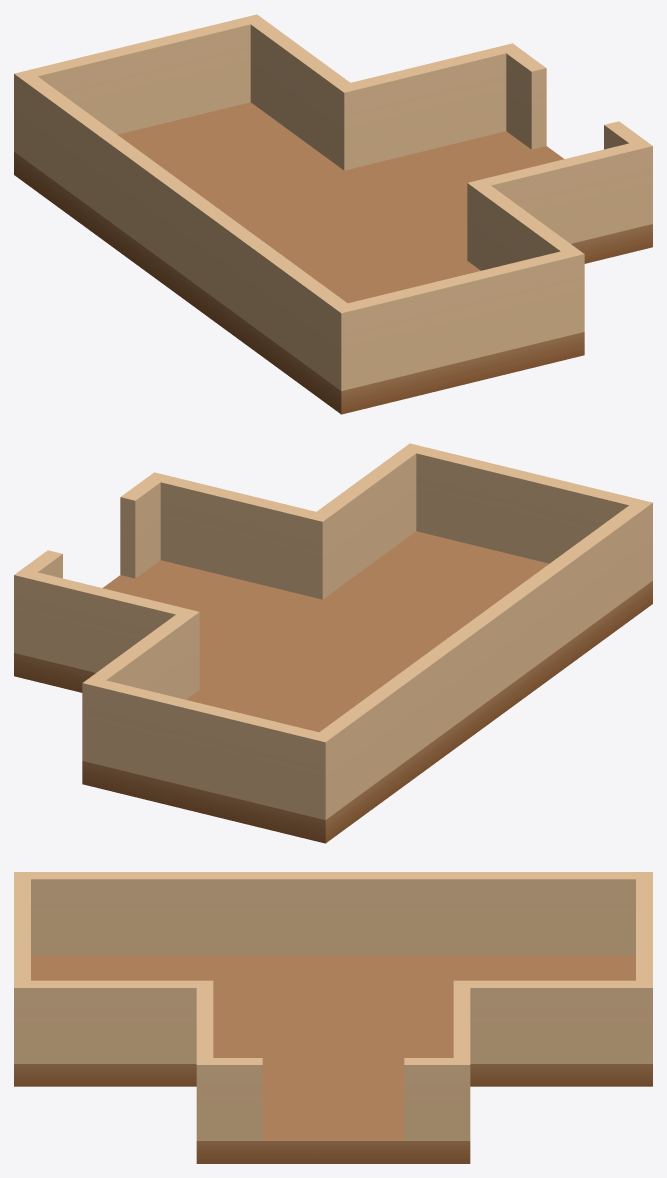
File: Fundaments_3_2.glb
The picture shows the model from 3 angles, top to bottom: view 1: azimuth 30°, elevation 25°; view 2: azimuth 150°, elevation 25°; view 3: azimuth 270°, elevation 25°; orthographic projection. The views are drawn at different scales.
Visible parts, largest first — view 1: Fundaments_3_2; view 2: Fundaments_3_2; view 3: Fundaments_3_2.
Boxes of the visible parts, left/top/right/bottom form: Fundaments_3_2: left=14, top=14, right=652, bottom=414; Fundaments_3_2: left=14, top=443, right=652, bottom=843; Fundaments_3_2: left=14, top=872, right=652, bottom=1163.
Size of the model in its own units: 10 by 2.39 by 14.
Materials: 1 (1 with a texture image).
